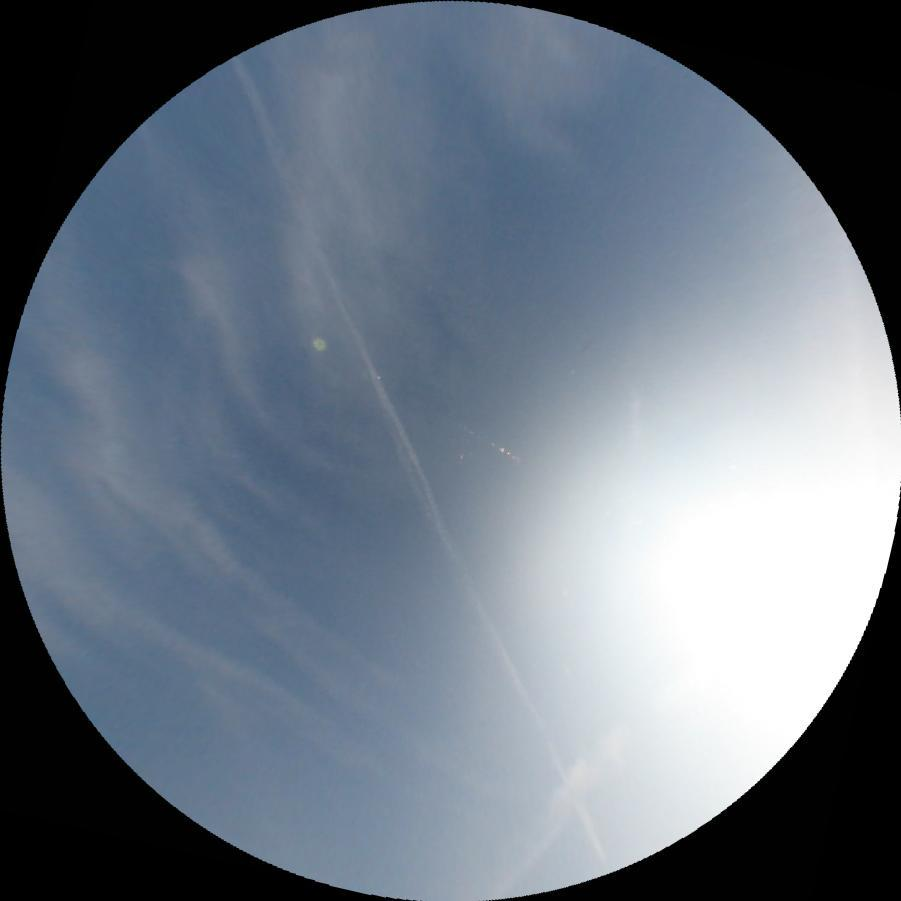contrail old: (218, 53, 609, 872)
contrail veryold: (86, 444, 554, 837)
sun: (603, 430, 901, 749)
